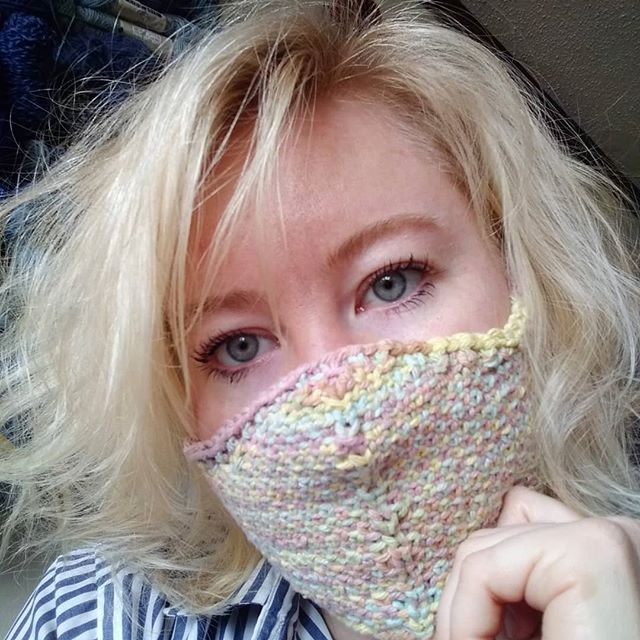homemade: (200, 349, 546, 632)
